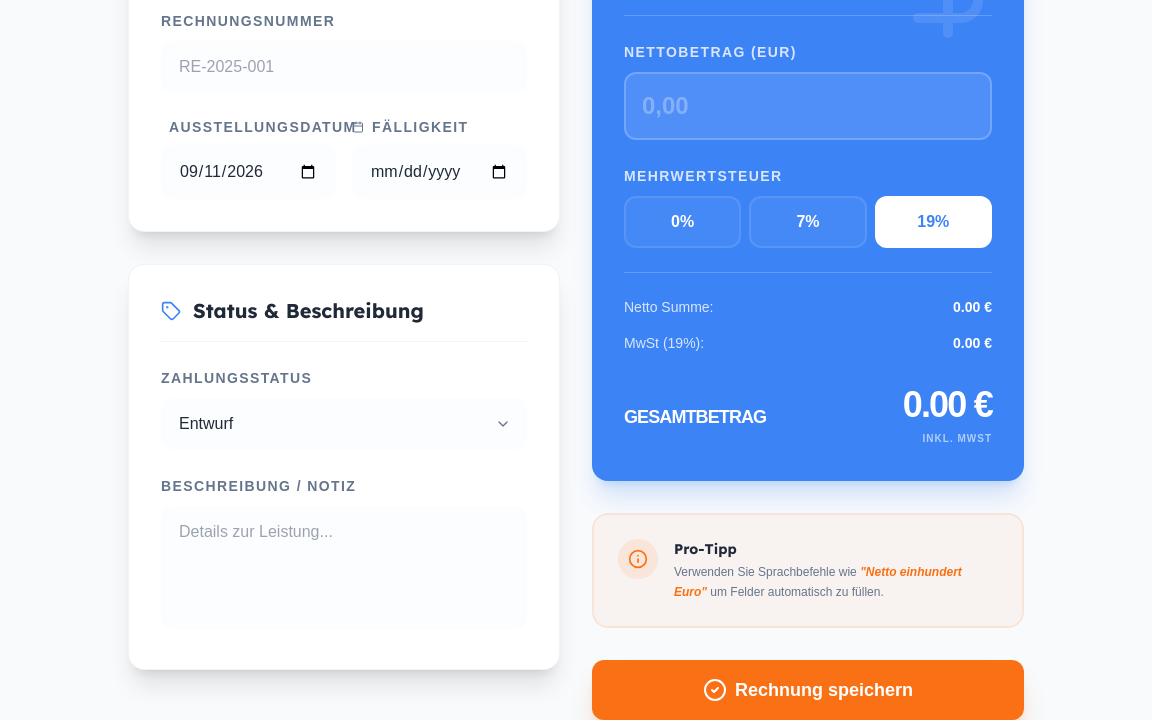
Test: InvoiceForm › validation › should show error for empty invoice number
(page scrolled)
# Try to submit without filling invoice number
Click the button "Rechnung speichern": (808, 690) [592, 660, 1024, 719]
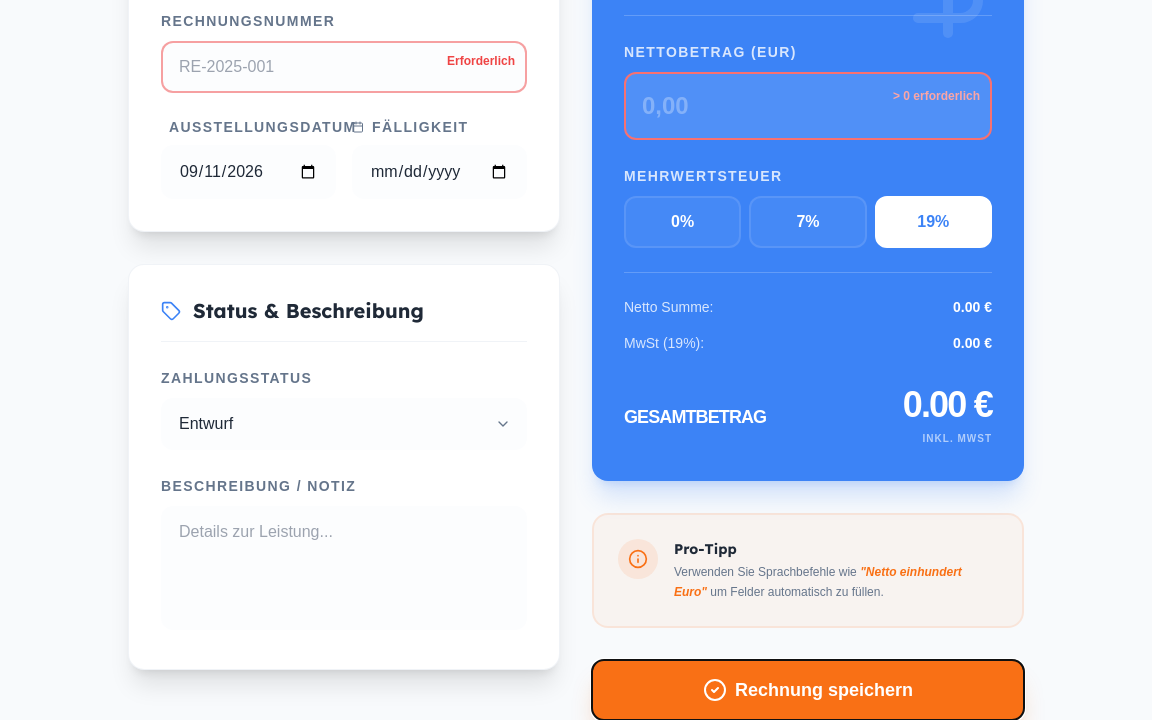
Result: the text with test id "error-invoiceNumber" reads "Erforderlich" at [447, 54, 515, 68]
